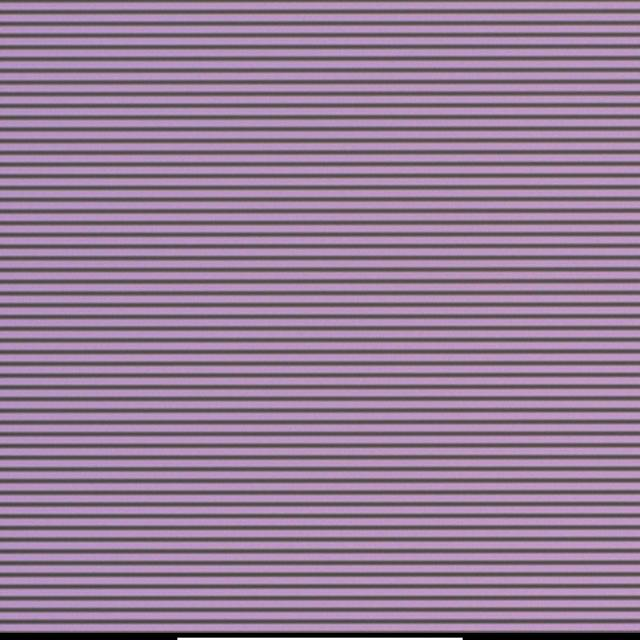nonvisual: (298, 328, 305, 335)
